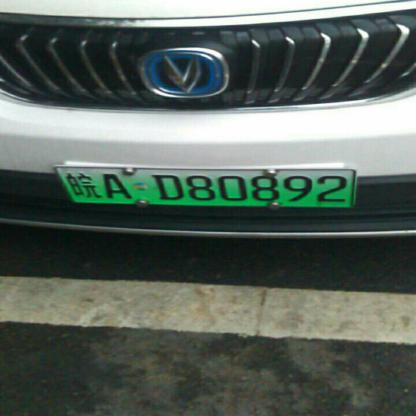lp: (54, 166, 76, 206)
